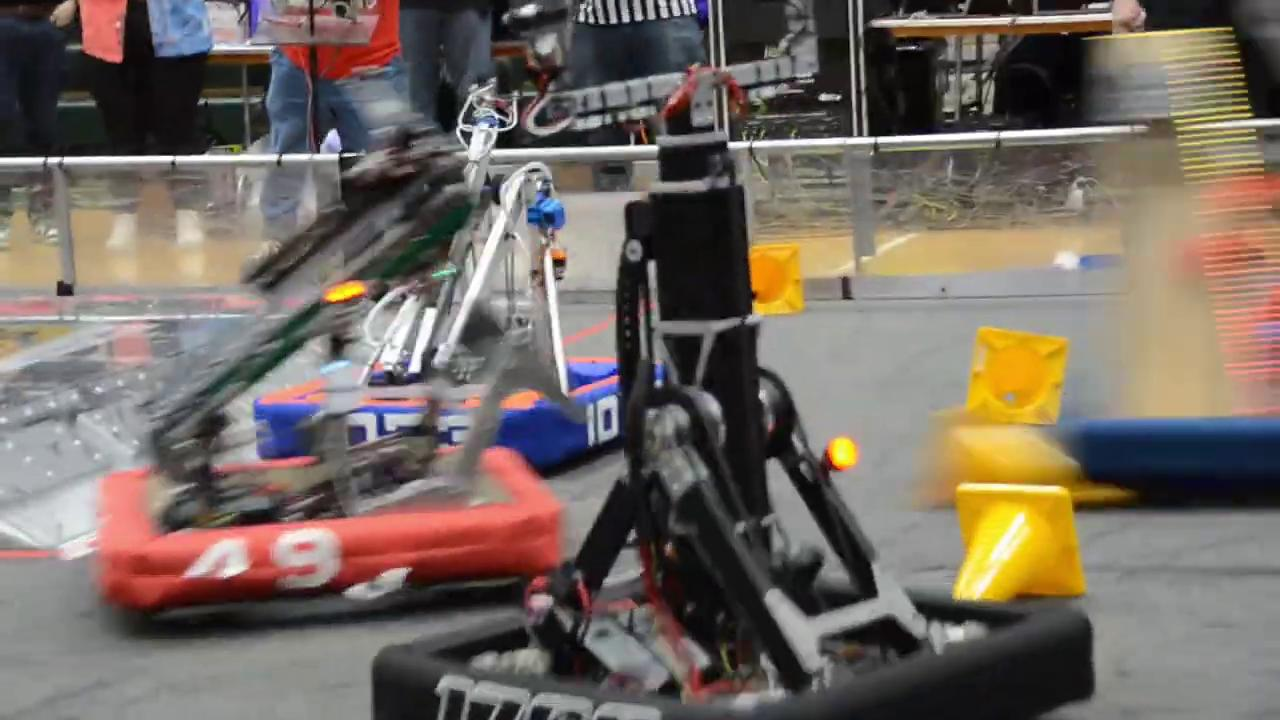robot: (370, 117, 1094, 720), (95, 138, 565, 615), (254, 75, 666, 477), (1051, 197, 1280, 510)
